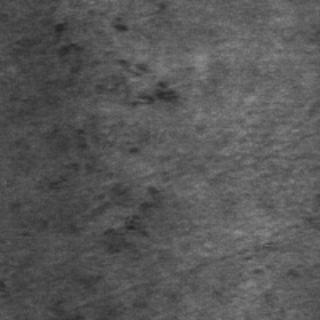rolled pit: (21, 132, 161, 252), (36, 18, 176, 104)
